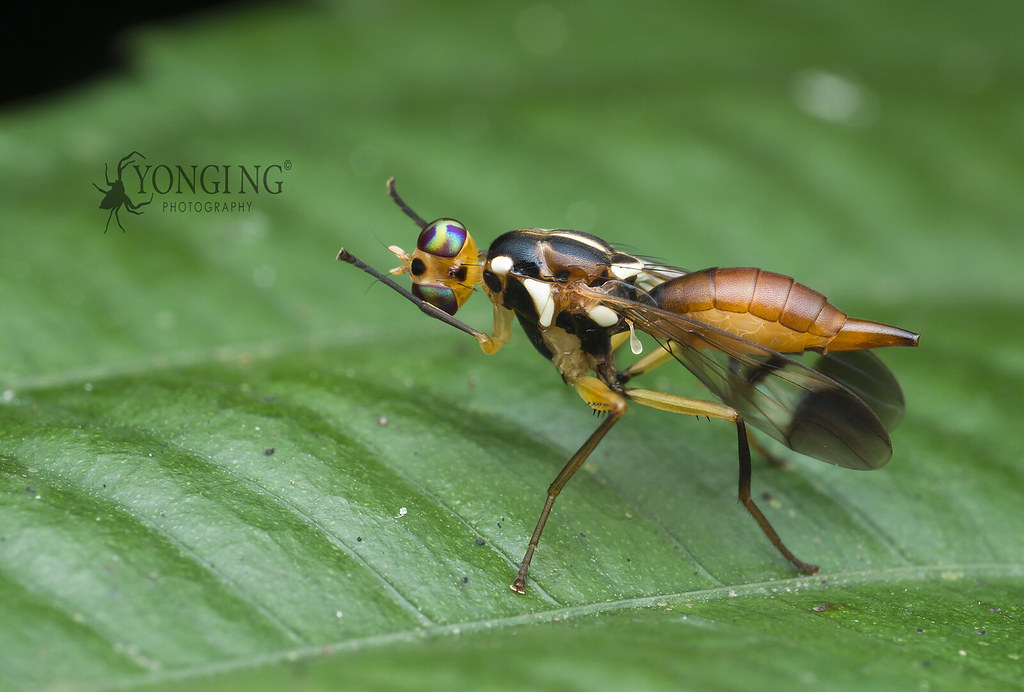Fruit fly: (345, 175, 900, 582)
